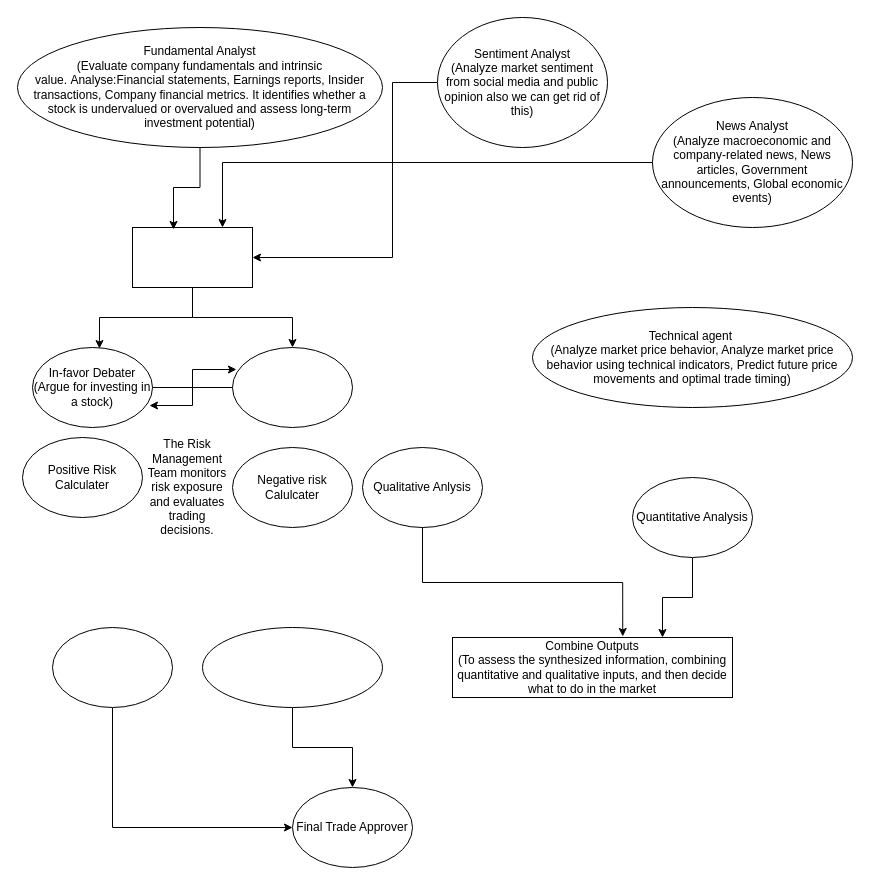
Some shapes in this 870 by 885 pixel diagram are drawn without their labels. The centre of each missing label's shape, as x and y in pixels:
Against Debator ( Argue against investing): point 292,387
All analysts produce structured reports summarizing their findings: point 192,257
Buy/Sell Agents: point 112,667
Size+Time Decider (decide the timing and size of trades to maximize returns): point 292,667
